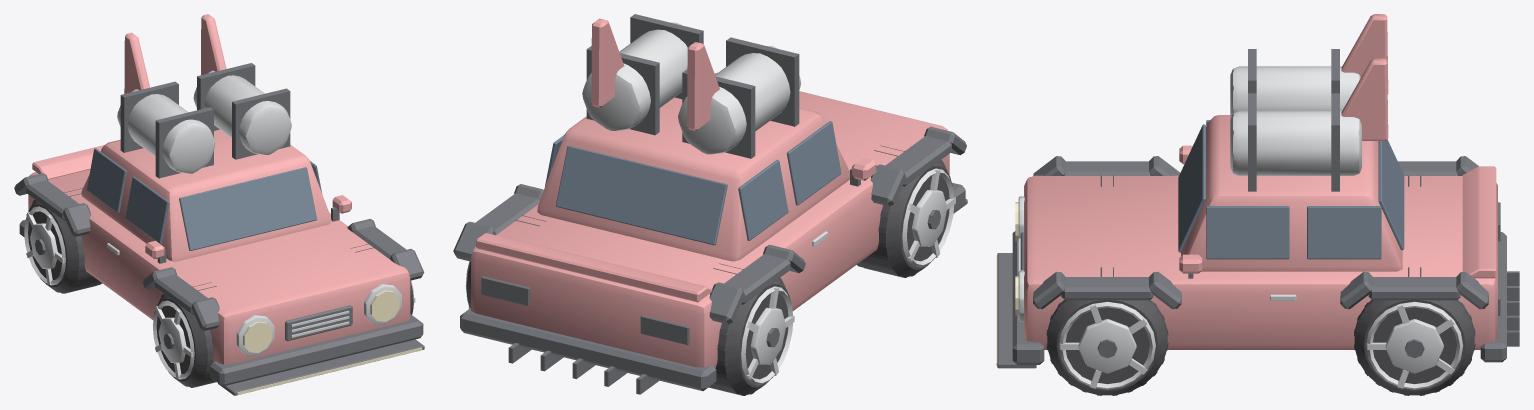
Rendered from golden_racer.fbx.
3 renders of one model, left to right at view 1: azimuth 30°, elevation 25°; view 2: azimuth 150°, elevation 25°; view 3: azimuth 270°, elevation 25°, orthographic. The views are drawn at different scales.
Parts seen in each view (by area): view 1: Body, Trim, Metal, Glass, Wheel_RR, Wheel_FR, Light; view 2: Body, Trim, Metal, Glass, Wheel_FR, Wheel_RR; view 3: Body, Metal, Trim, Glass, Wheel_RL, Wheel_FL, Light.
Part boxes in pixels (x1=…): Body: x1=28, y1=14, x2=410, y2=364; Trim: x1=14, y1=63, x2=424, y2=395; Metal: x1=24, y1=70, x2=415, y2=379; Glass: x1=87, y1=148, x2=322, y2=250; Wheel_RR: x1=25, y1=188, x2=102, y2=293; Wheel_FR: x1=154, y1=282, x2=216, y2=387; Light: x1=237, y1=290, x2=422, y2=394; Body: x1=471, y1=18, x2=949, y2=367; Trim: x1=453, y1=14, x2=967, y2=394; Metal: x1=465, y1=22, x2=955, y2=385; Glass: x1=545, y1=121, x2=841, y2=245; Wheel_FR: x1=857, y1=145, x2=952, y2=277; Wheel_RR: x1=708, y1=263, x2=791, y2=395; Body: x1=1024, y1=14, x2=1497, y2=349; Metal: x1=1018, y1=66, x2=1463, y2=389; Trim: x1=997, y1=49, x2=1519, y2=368; Glass: x1=1178, y1=120, x2=1404, y2=259; Wheel_RL: x1=1354, y1=267, x2=1475, y2=395; Wheel_FL: x1=1046, y1=267, x2=1168, y2=395; Light: x1=996, y1=202, x2=1018, y2=365.
Bounding box in the file's own units: 3.64 × 3.76 × 5.96.
